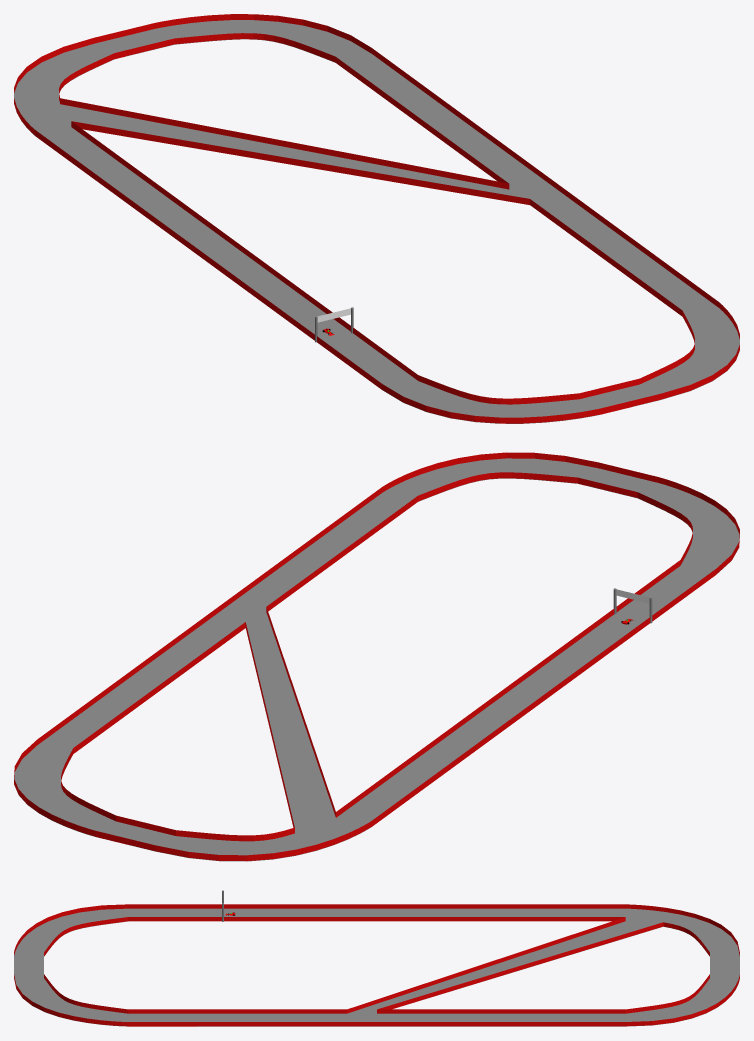
File: steza2.gltf
3 renders of one model, top to bottom at view 1: azimuth 30°, elevation 25°; view 2: azimuth 150°, elevation 25°; view 3: azimuth 270°, elevation 25°, orthographic. The views are drawn at different scales.
Visible parts, largest first — view 1: steza; view 2: steza; view 3: steza.
Boxes of the visible parts, x1,y1,x2,y2 form: steza: [14, 14, 739, 423]; steza: [14, 452, 739, 861]; steza: [14, 890, 739, 1026].
Size of the model in its own units: 56.2 by 4 by 146.
